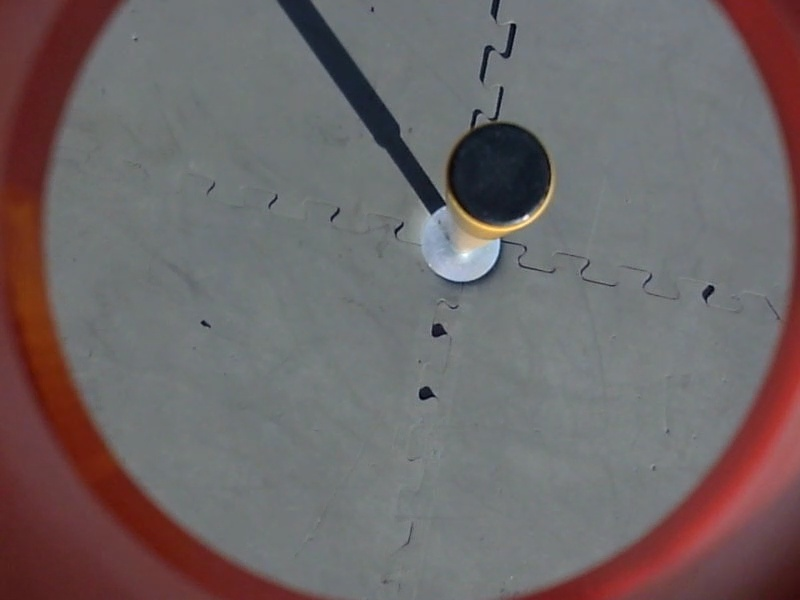tip: (440, 119, 558, 234)
